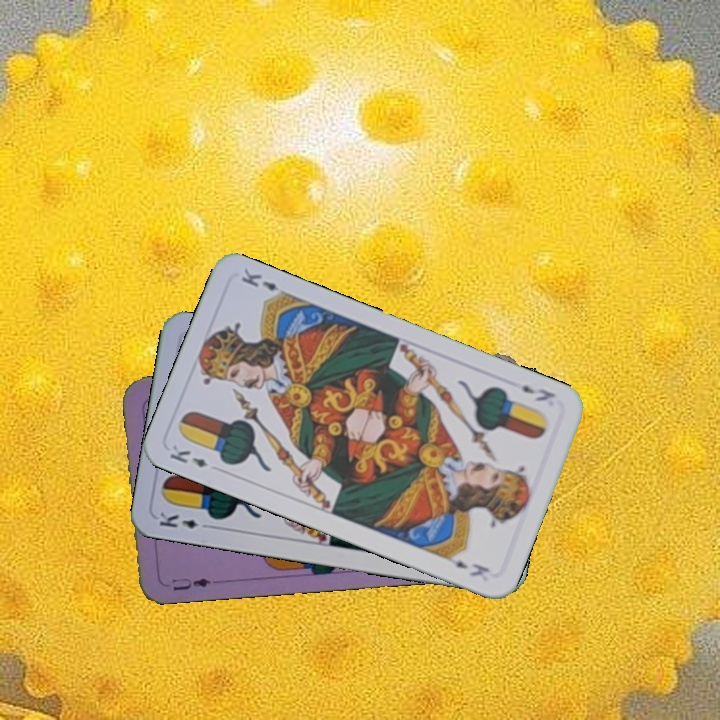EK: (155, 508, 214, 532), (165, 441, 210, 470), (517, 381, 558, 404)
EU: (168, 574, 213, 594)
